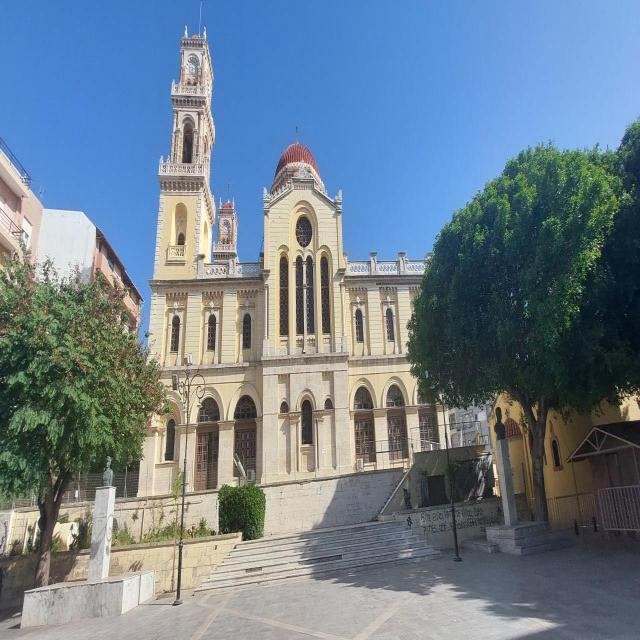Agios Minas: (134, 22, 456, 470)
